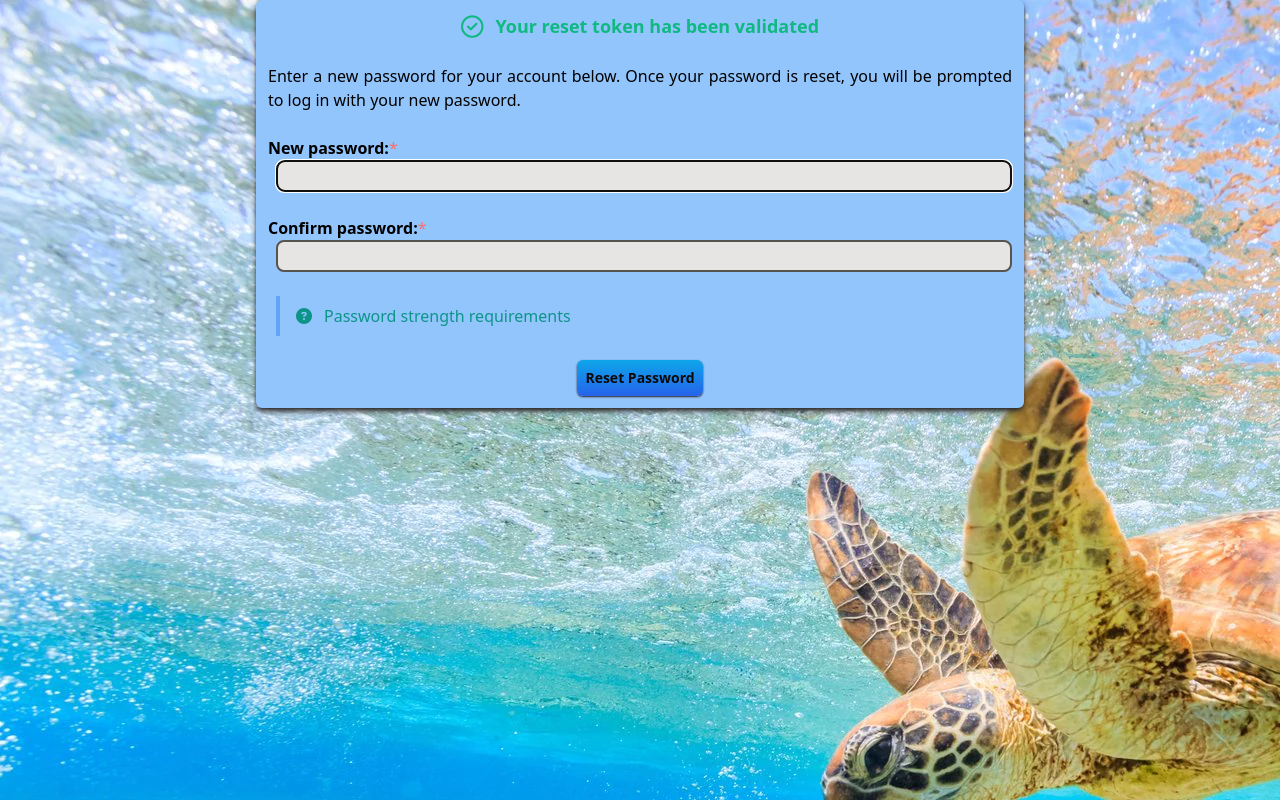
ResetPassword component › will validate for weak passwords
Type "weak" into the password field with test id "password" at (644, 176), box [276,160,1012,192]
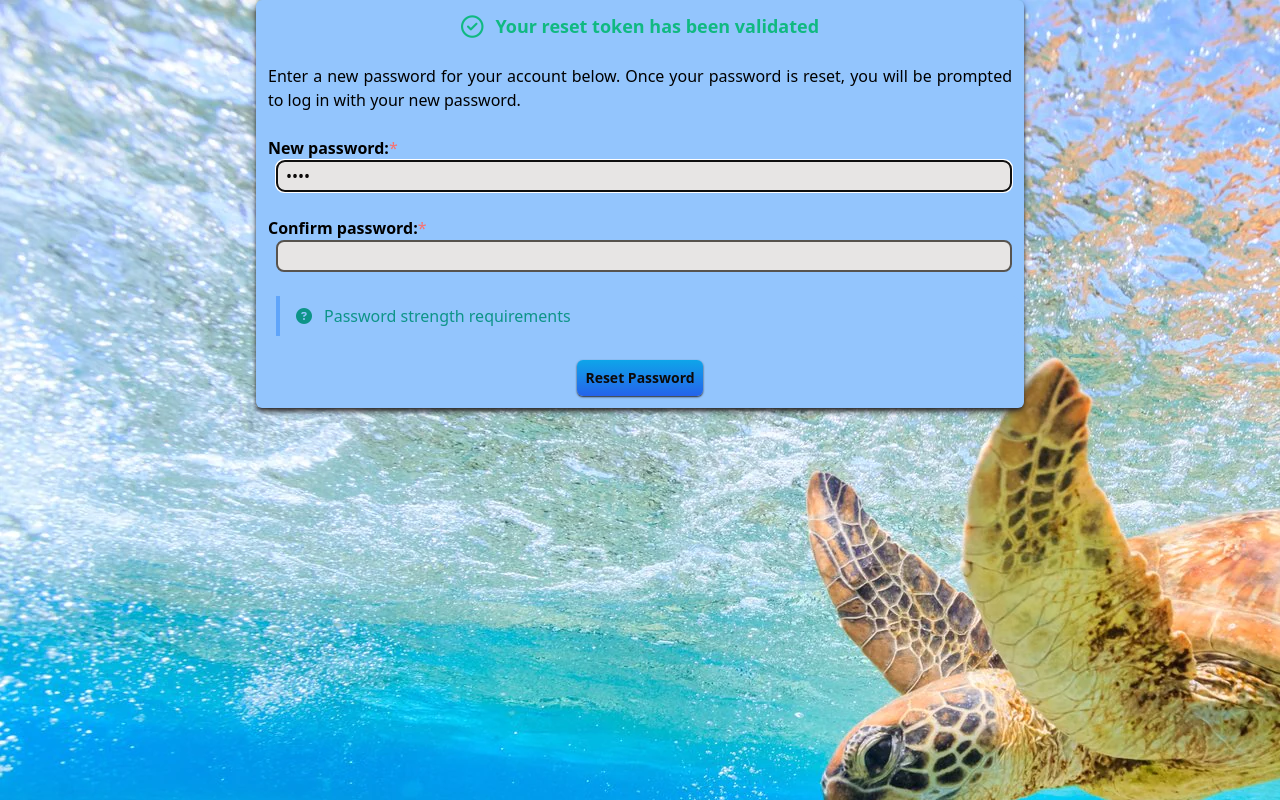
Click the submit button at (640, 378), box [577,360,703,396]
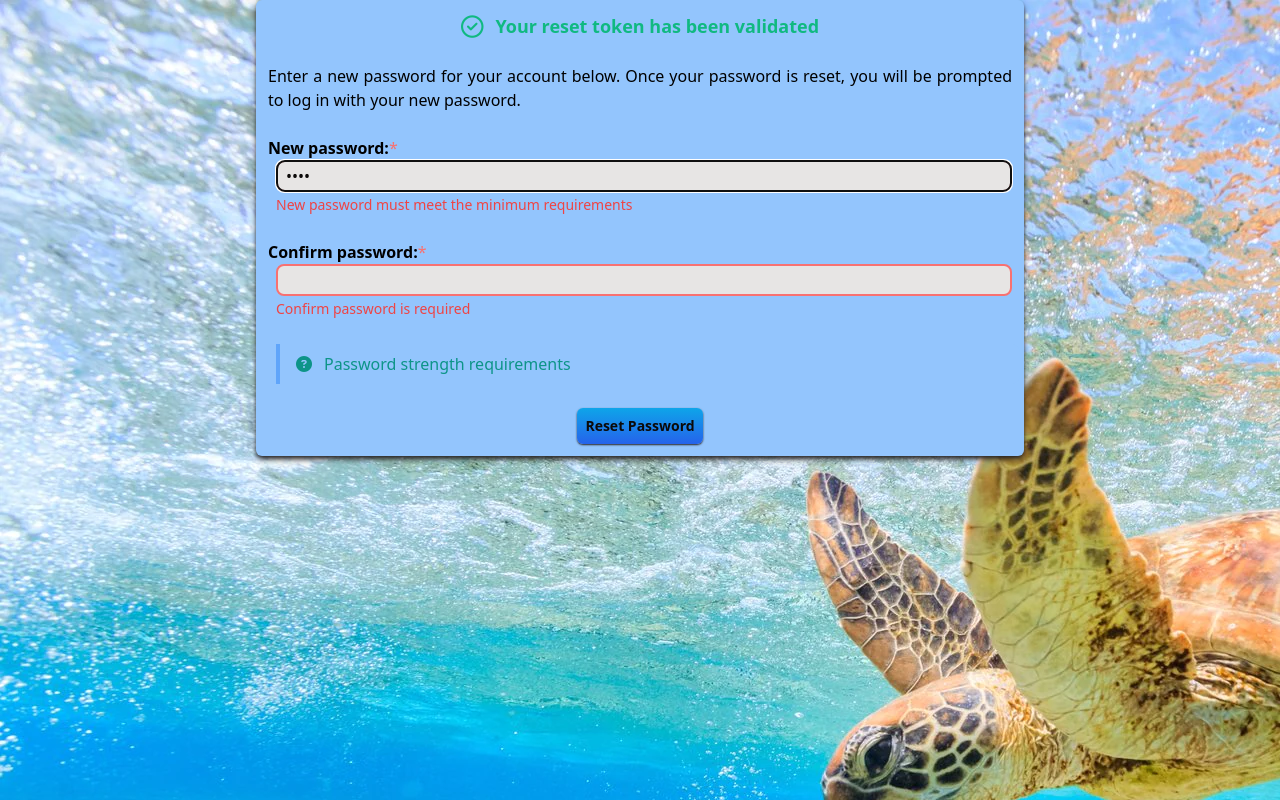
Result: the text with test id "password-error" reads "New password must meet the minimum requirements" at [276,195,632,214]
